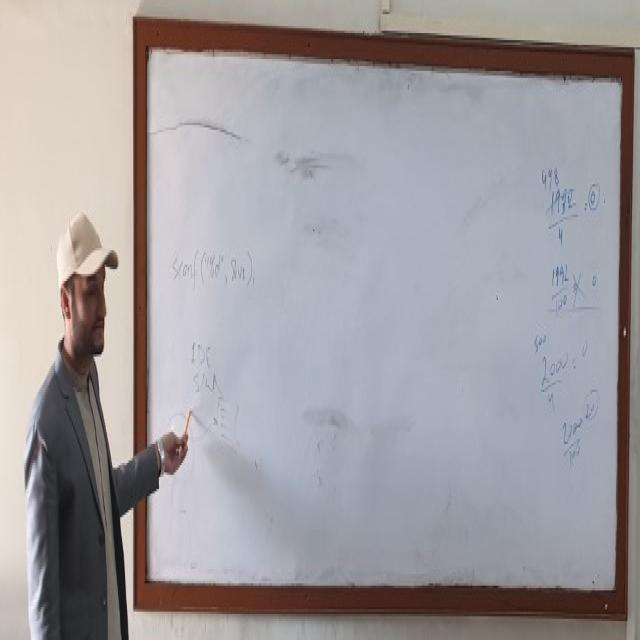Instructor: (25, 187, 131, 640)
White-board: (139, 34, 626, 610)
